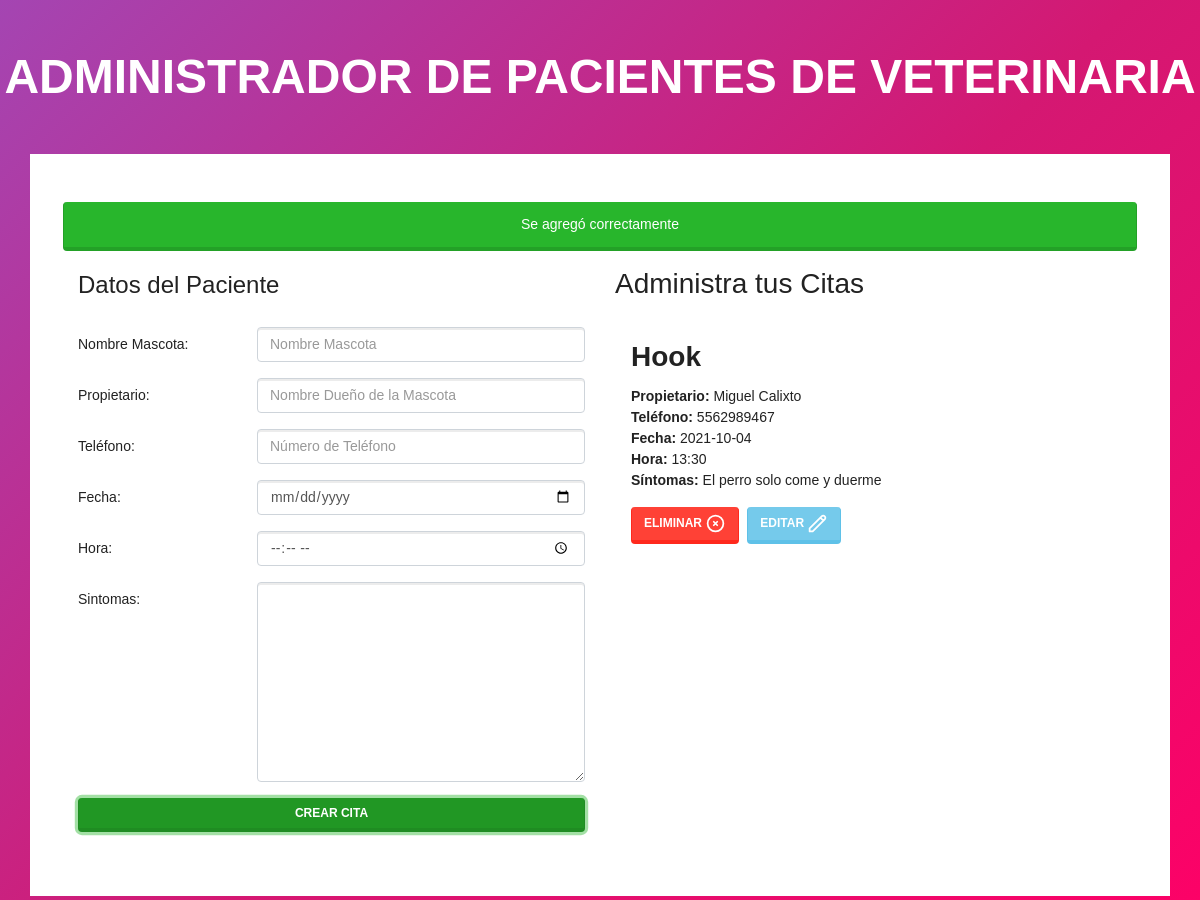
Test: Llena los campos para una nueva cita y la elimina › Eliminar la cita
Click the button with test id "btn-eliminar" at (685, 526), box [631,507,739,544]
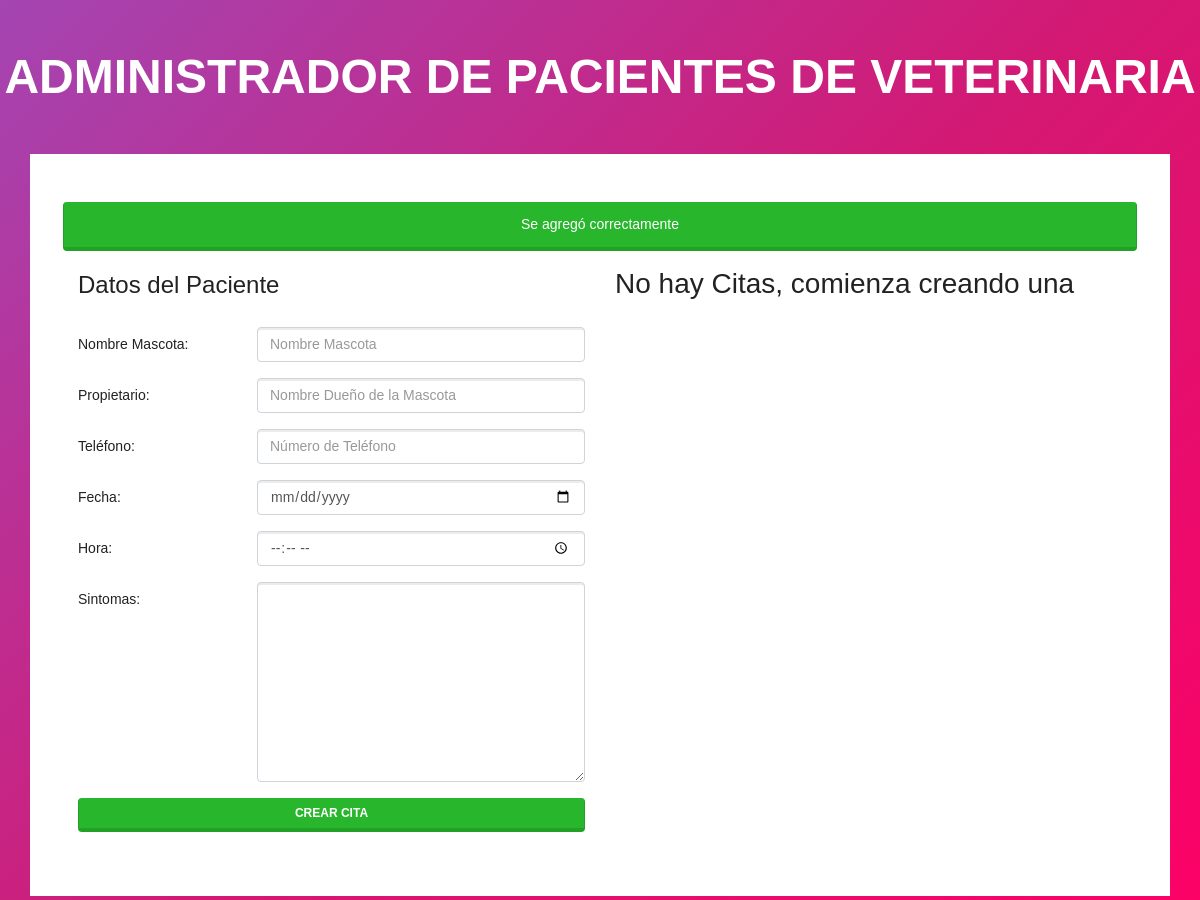
Result: the heading with test id "citas-heading" reads "No hay Citas, comienza creando una" at [615,267,1122,301]
